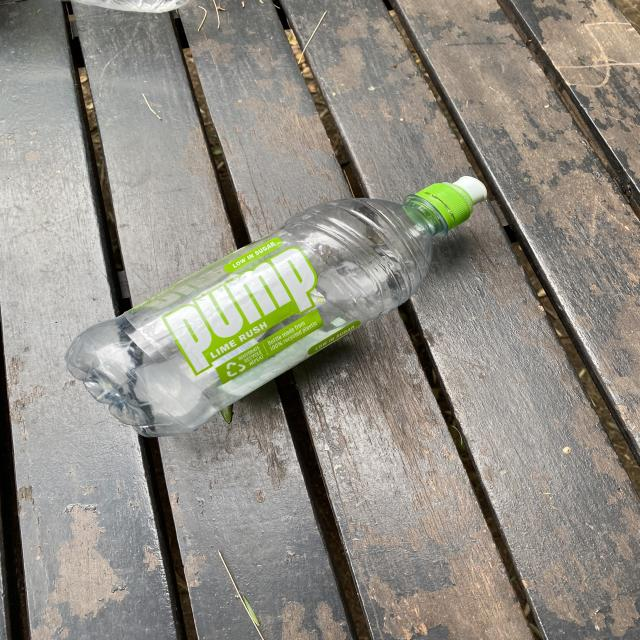bottle: (65, 175, 488, 438)
